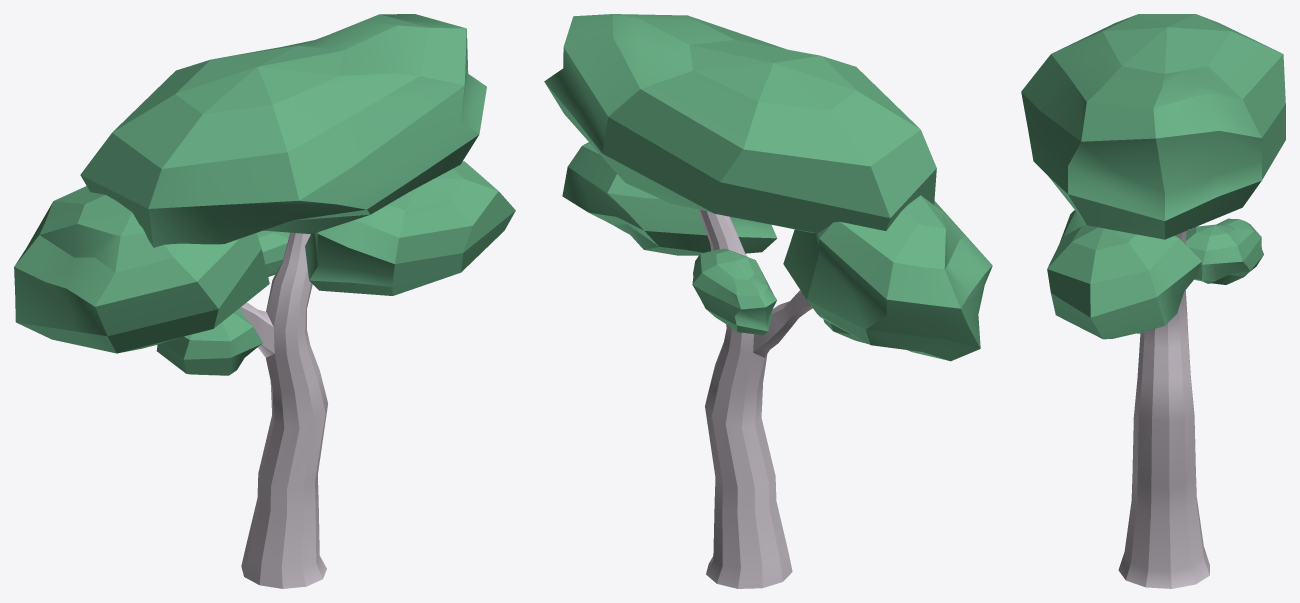
Rendered from Park_boom.fbx.
3 views of the same model, side by side, from view 1: azimuth 30°, elevation 25°; view 2: azimuth 150°, elevation 25°; view 3: azimuth 270°, elevation 25° (orthographic). The views are drawn at different scales.
Visible parts, largest first — view 1: polySurface6; view 2: polySurface6; view 3: polySurface6.
Boxes of the visible parts, left/top/right/bottom form: polySurface6: left=14, top=14, right=515, bottom=588; polySurface6: left=544, top=14, right=992, bottom=588; polySurface6: left=1021, top=14, right=1285, bottom=588.
Size of the model in its own units: 11.39 by 12.5 by 5.55.
